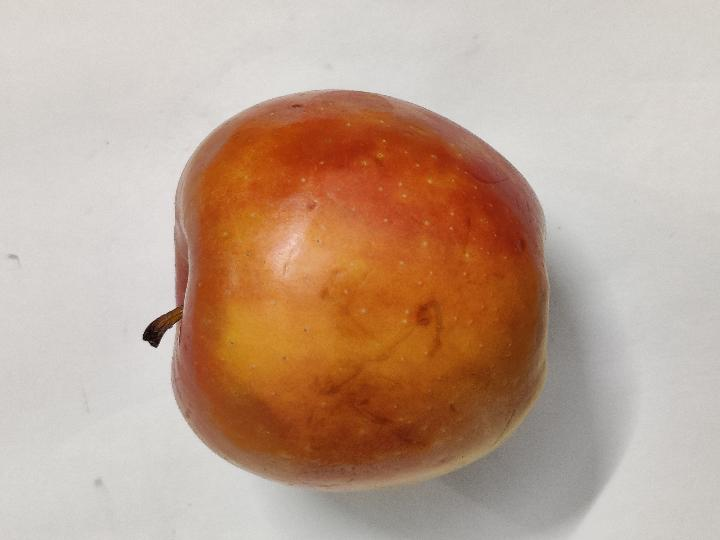apple: (144, 91, 548, 488)
surface_damage: (309, 324, 428, 447), (416, 300, 443, 356)
